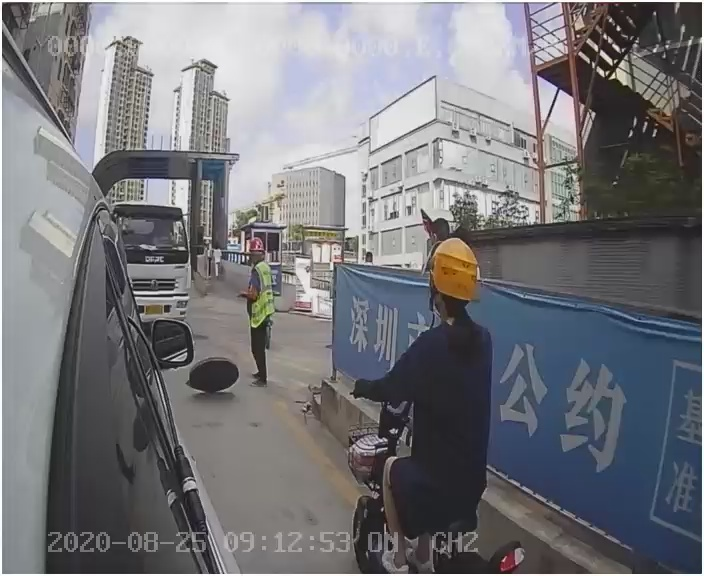person: (236, 237, 280, 389)
